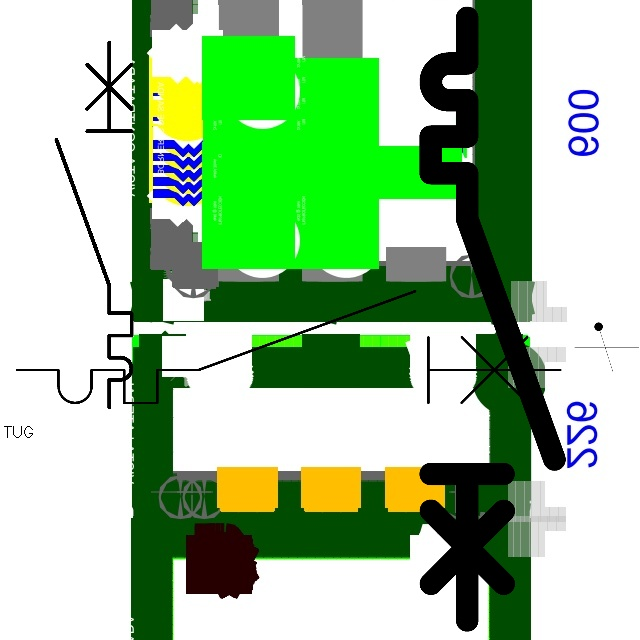interruptor_termomagnetico: (415, 2, 570, 636), (3, 277, 574, 417), (47, 33, 141, 417)
